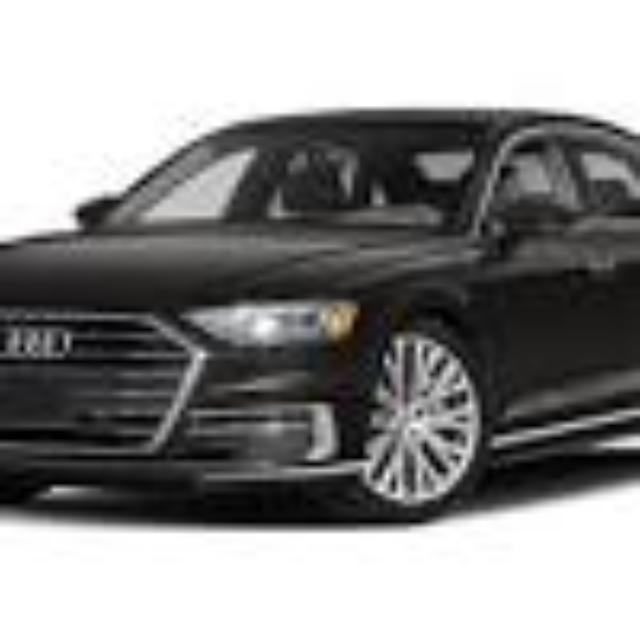audi: (1, 110, 640, 524)
